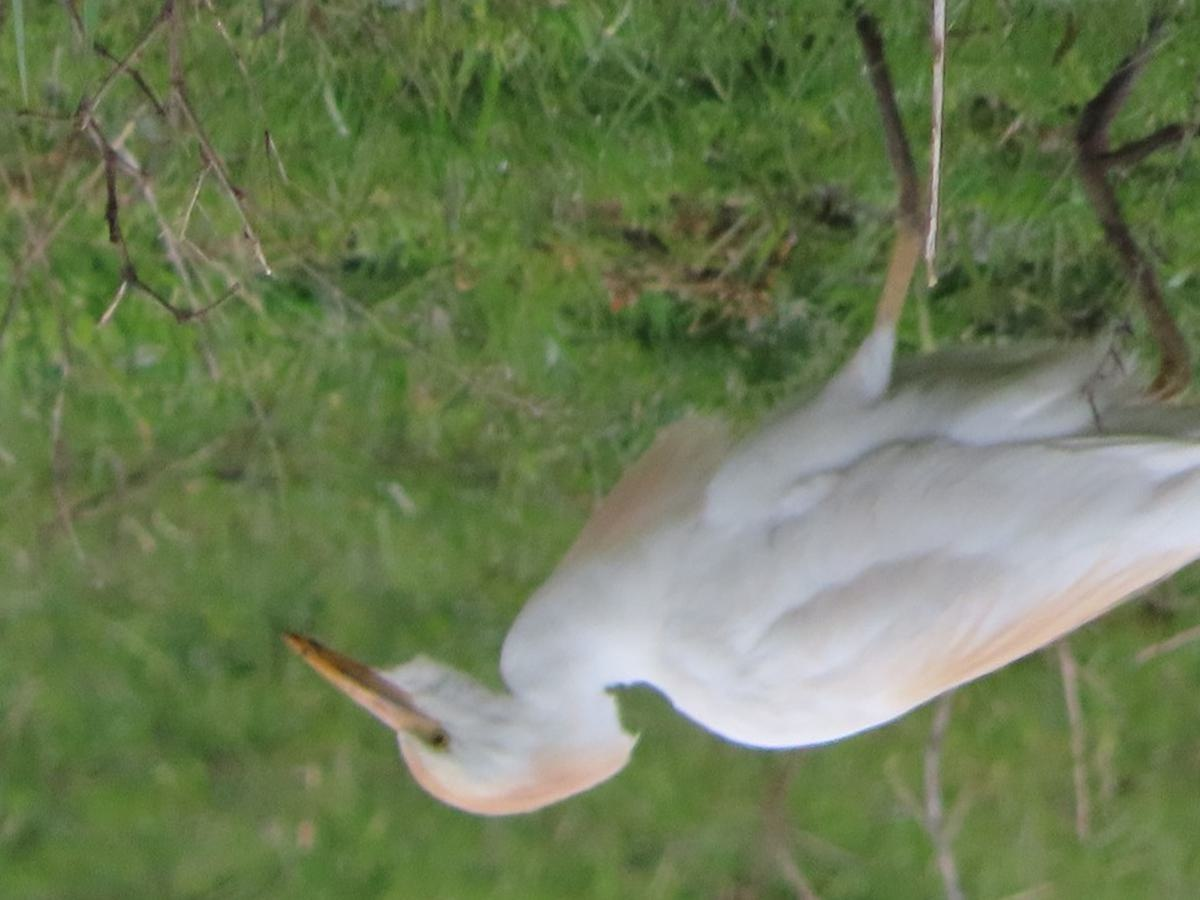egret: (276, 15, 1200, 810)
